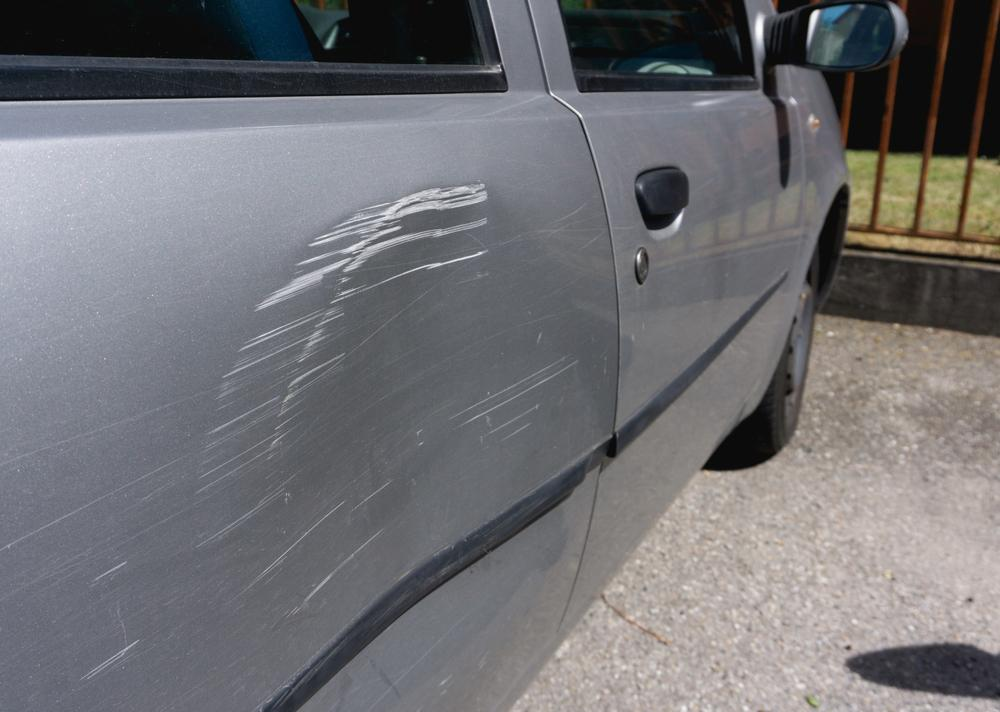dent: (277, 189, 603, 675)
scratch: (0, 194, 430, 702)
